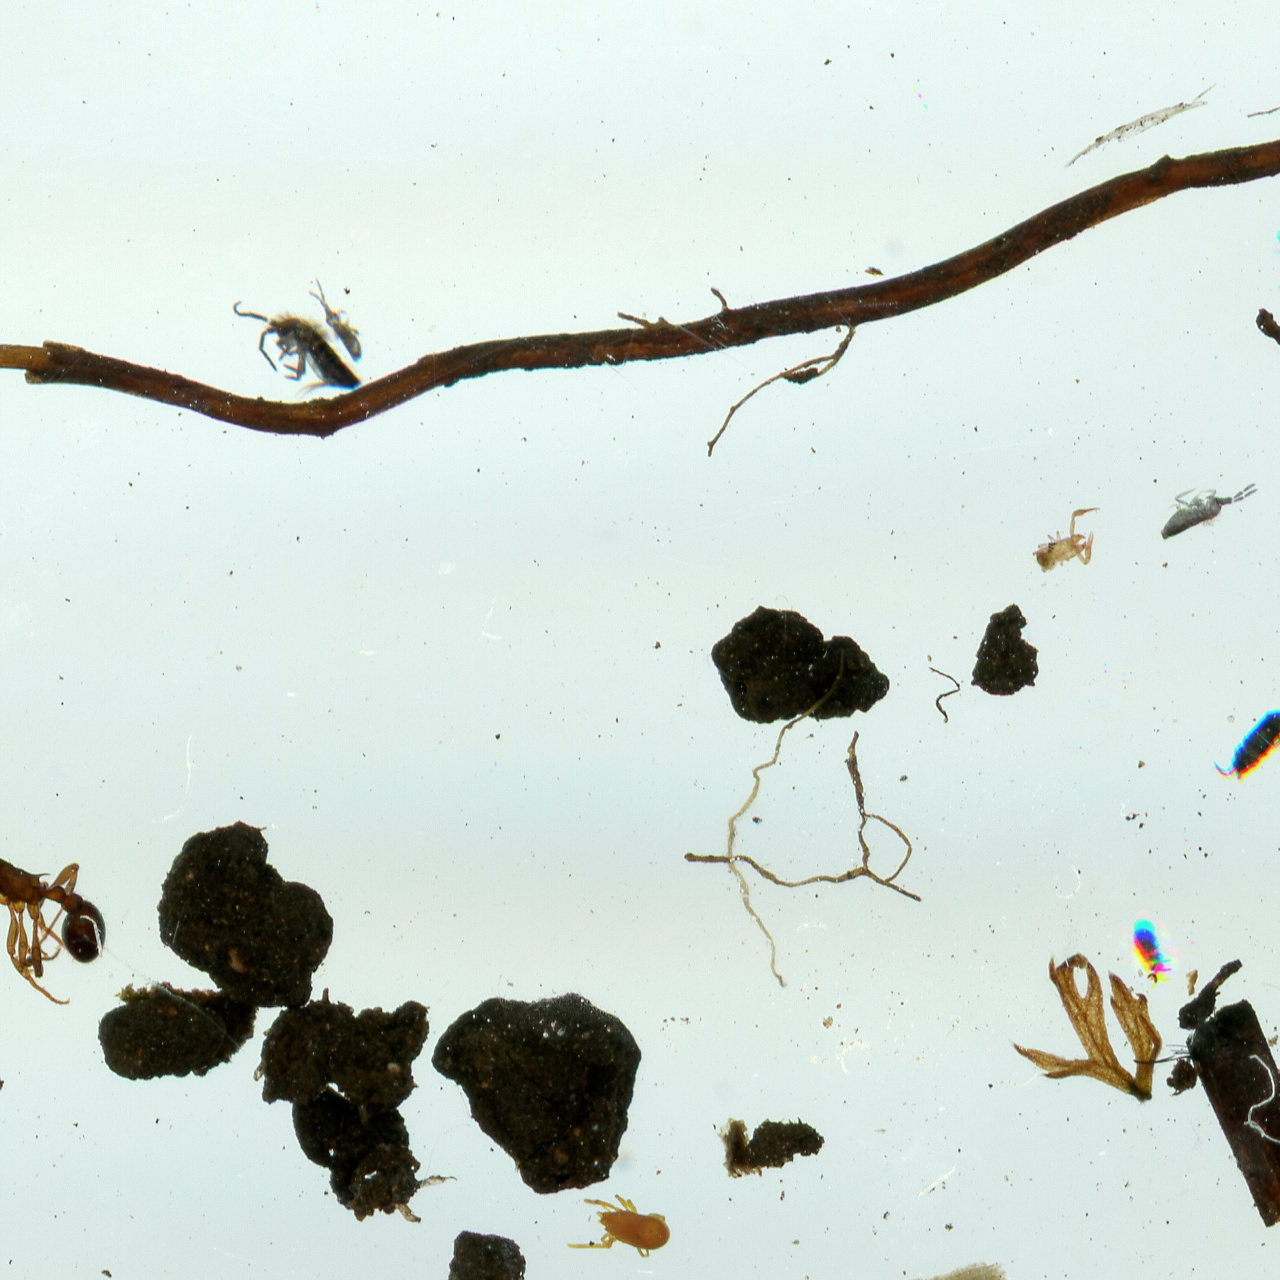arthropod: (0, 769, 157, 1065), (225, 298, 368, 403), (1131, 461, 1268, 553), (293, 263, 383, 382), (1205, 687, 1280, 798), (563, 1192, 675, 1262), (1118, 912, 1183, 994), (1030, 505, 1103, 576), (1252, 211, 1280, 318)
